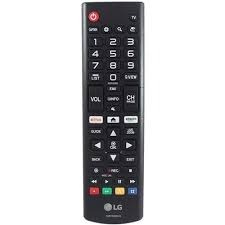remote control: (84, 2, 145, 225)
